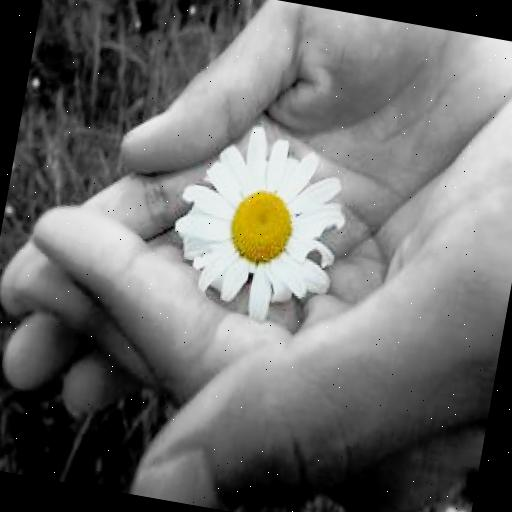daisy: (174, 130, 352, 314)
